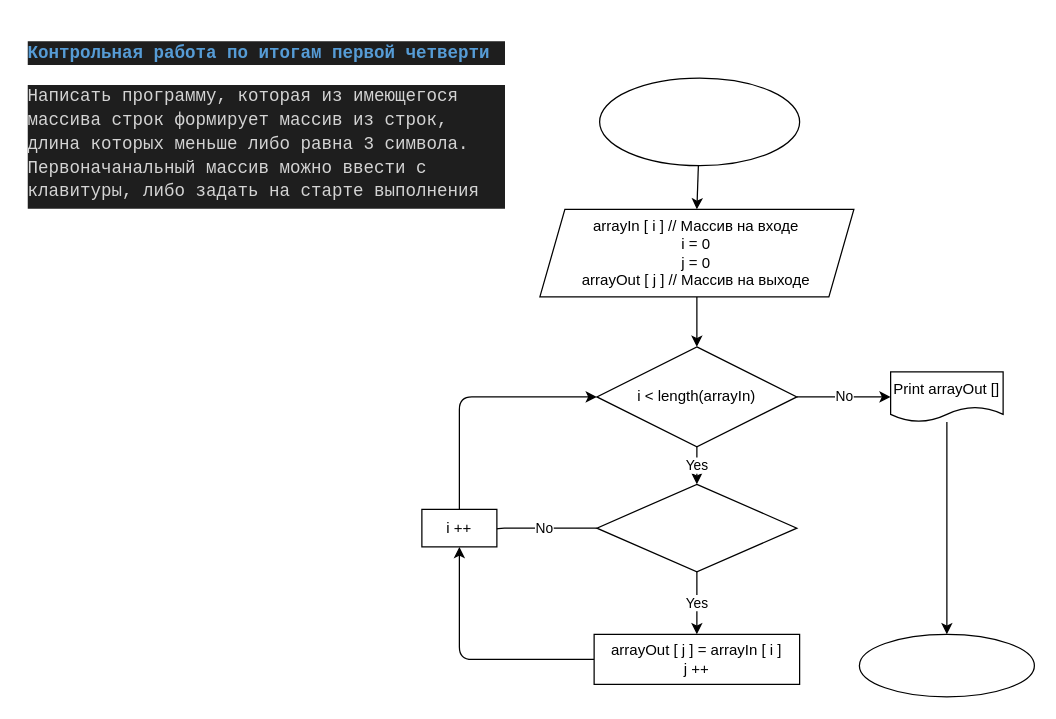
This 1056x719 diagram has some shape labels left out. The shapes that lost their labels are listed below. From the top down, each one's centre as x and y in pixels, then its label:
(699,121): Start
(696,527): arrayIn [ i ] .Lenfth <= 3
(946,665): Finish
